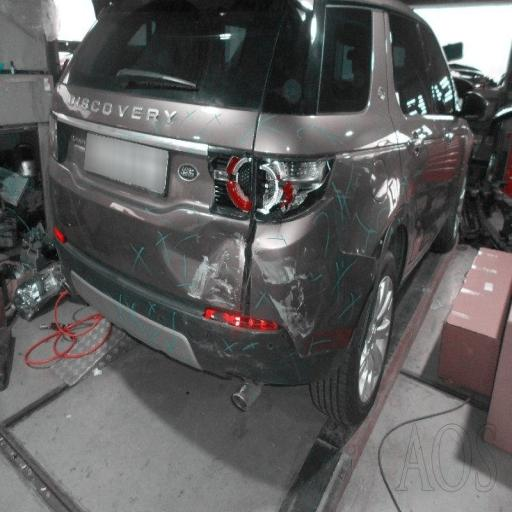broken: (189, 109, 347, 251)
dent: (168, 224, 346, 378)
scratch: (184, 250, 330, 350)
